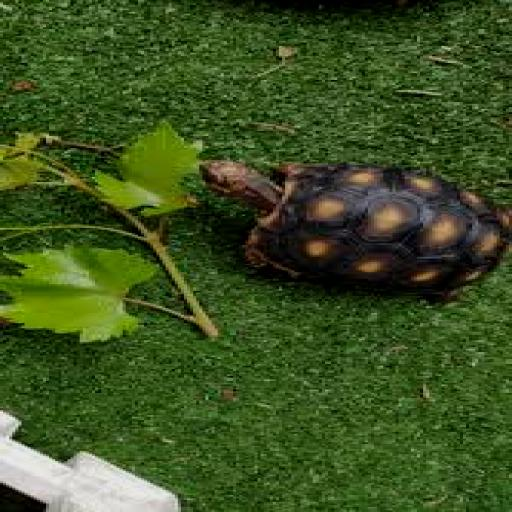turtle: (182, 154, 510, 300)
